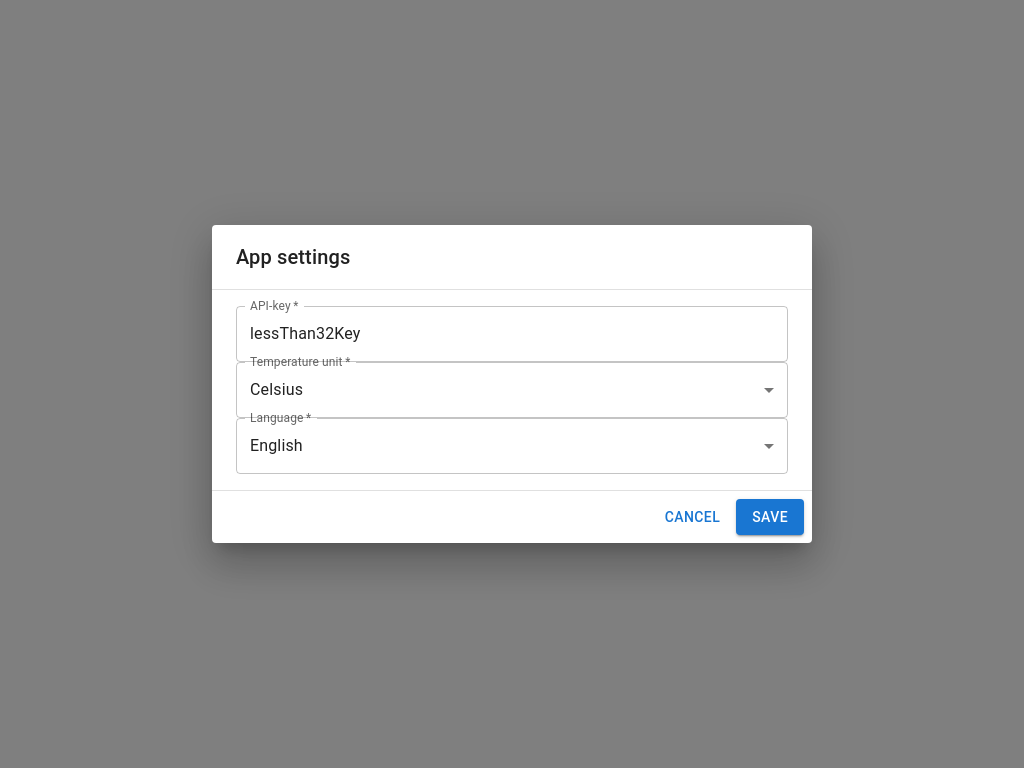
it: AppSettingsDialog › should display a validation error when the api key field is not 32 characters long
The image size is (1024, 768).
Click the submit button: (770, 517) top-left (736, 499), bottom-right (804, 535)
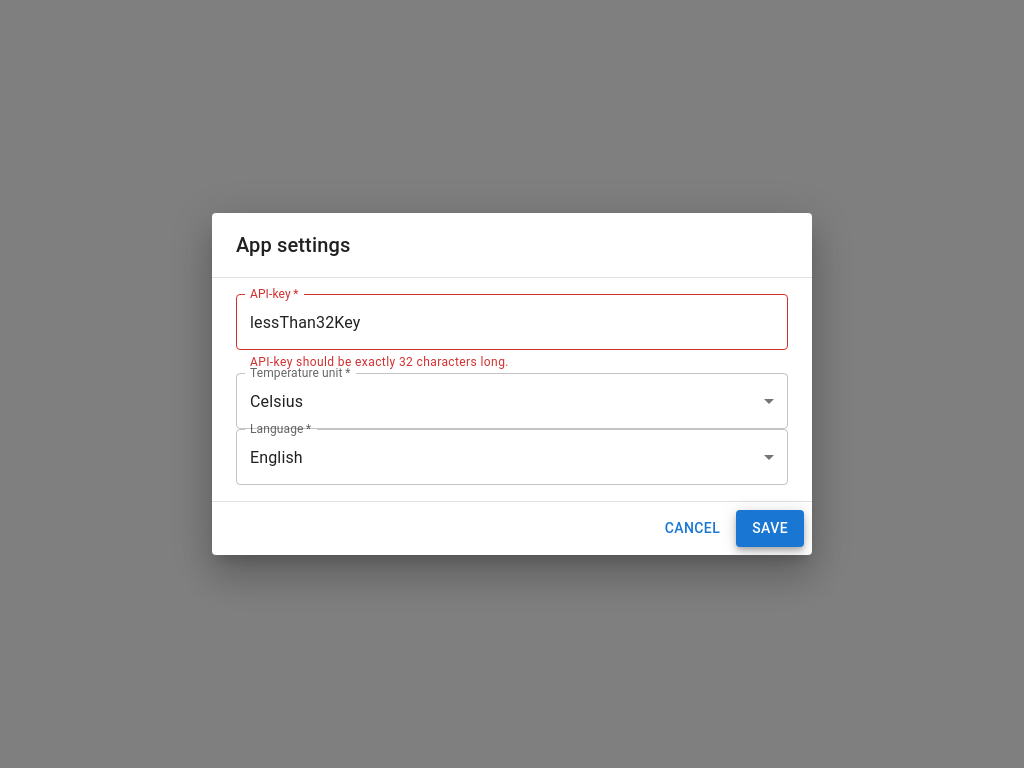
Check: the text "API-key should be exactly 32 characters long." is shown, box top-left (250, 355), bottom-right (509, 369)
